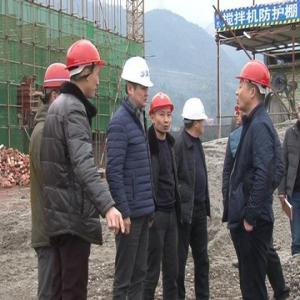red: (67, 41, 103, 101), (236, 59, 273, 114), (149, 92, 175, 134), (45, 64, 72, 104)
white: (122, 56, 152, 107), (183, 98, 208, 138)
